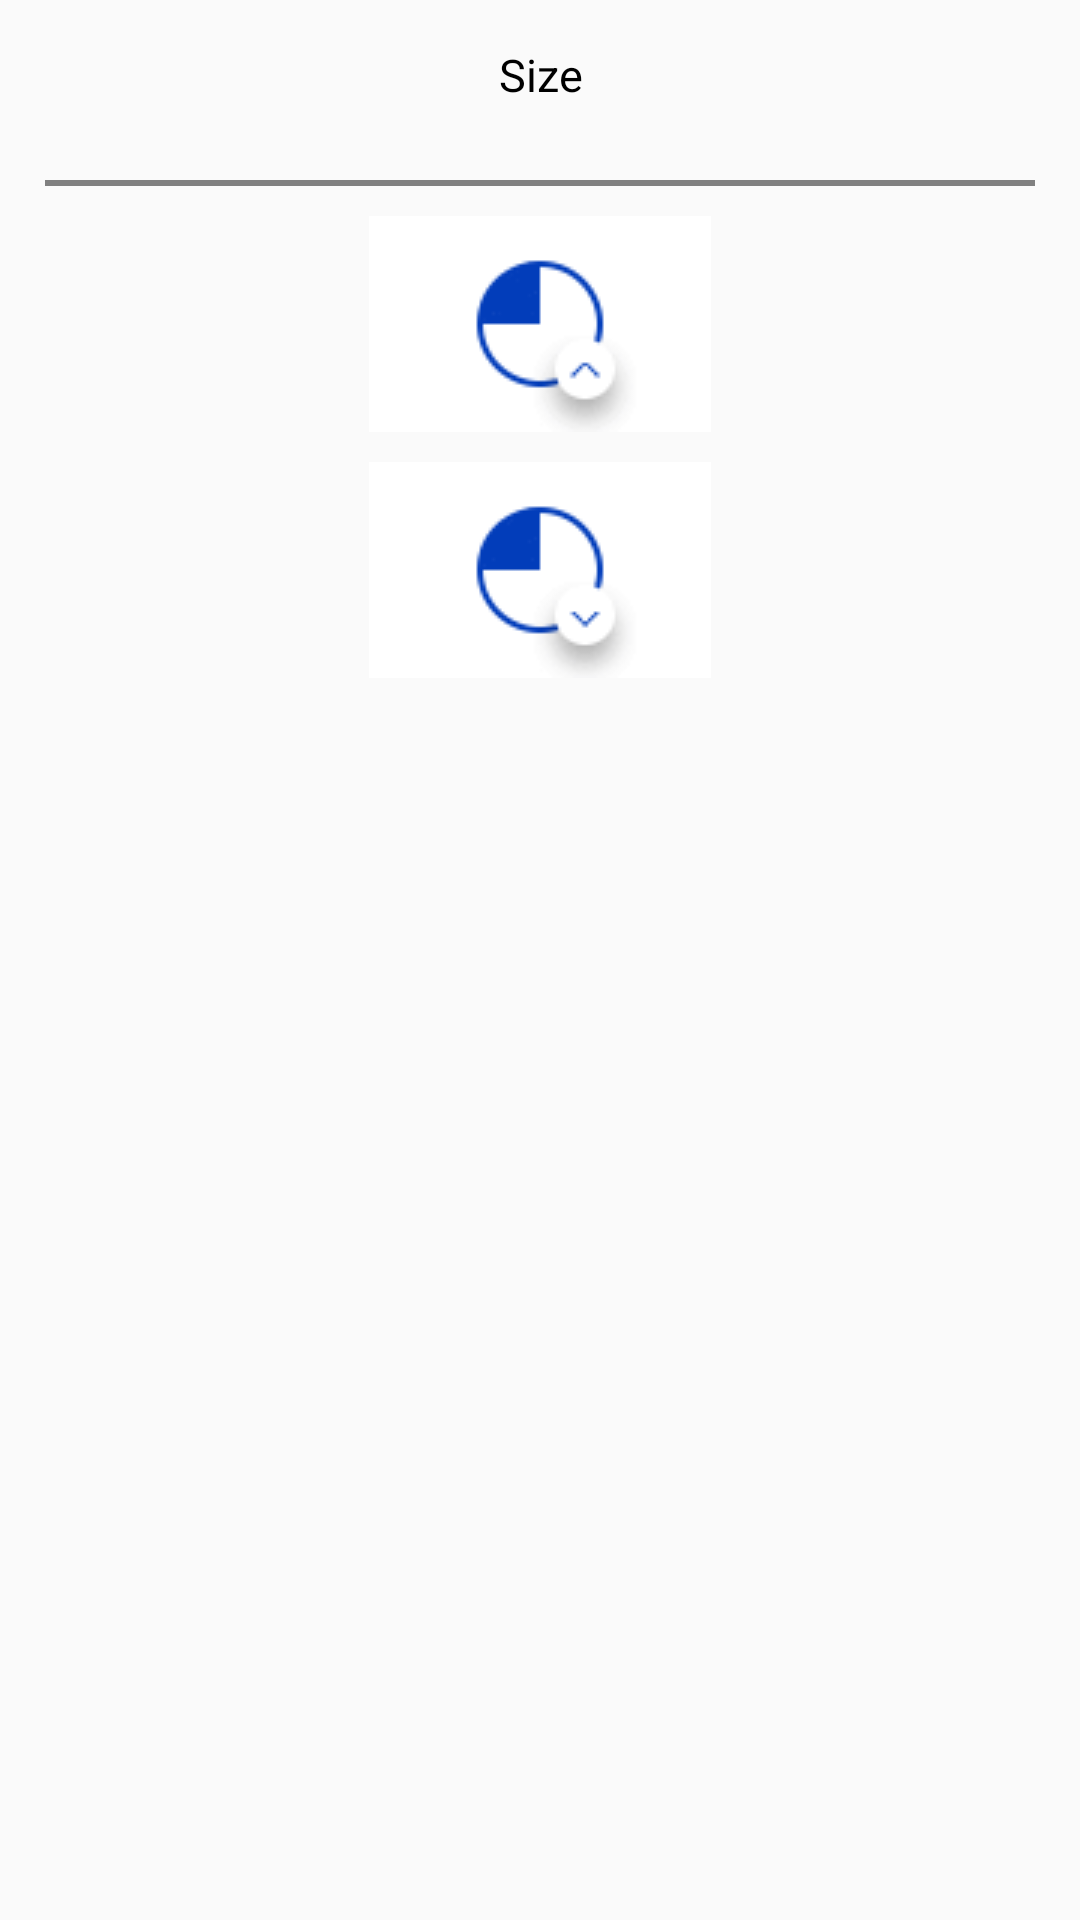

Named icons in this screenshot (1080w x 1920h) and their centers, (x,y):
size descending: (547,585)
